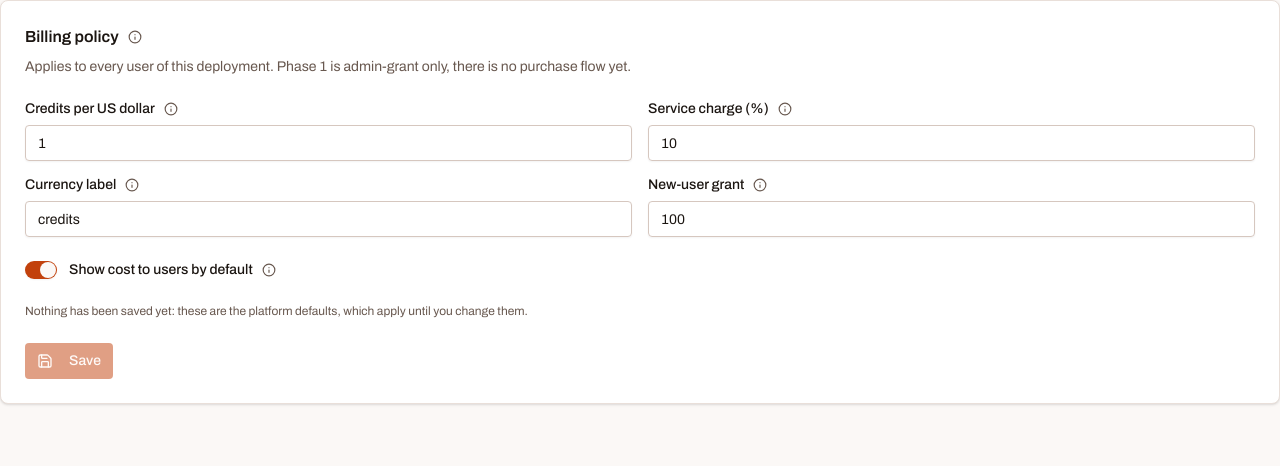
Scenario: BillingSettingsForm › save failure › renders a generic message when a non-API error is thrown
The width and height of the screenshot is (1280, 466).
Replace the text in the number field with id "resparkable-credits-per-usd" with "4" at (328, 143), box [25,125,632,161]
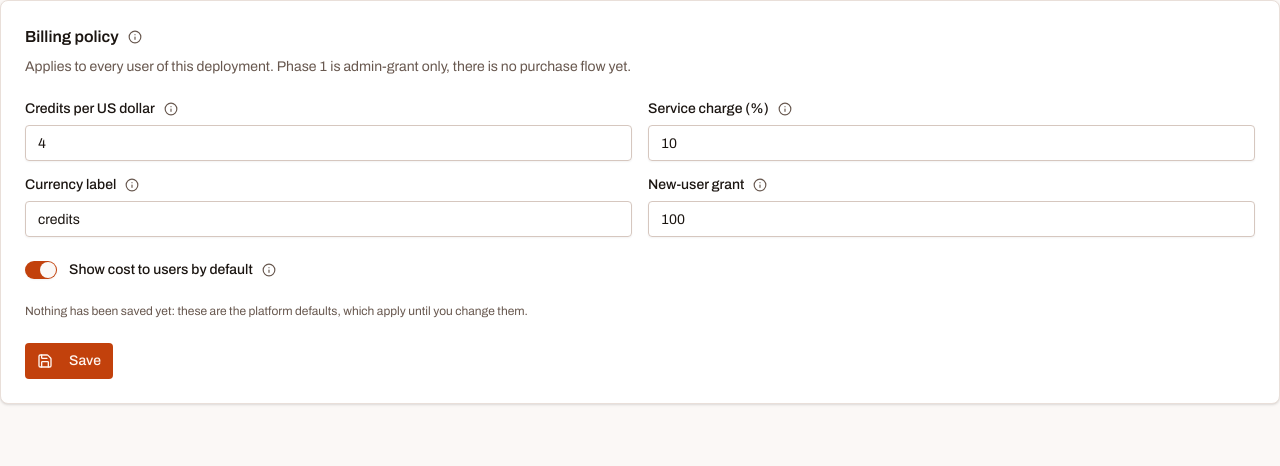
Click the button "Save" at (69, 361), box [25,343,113,379]
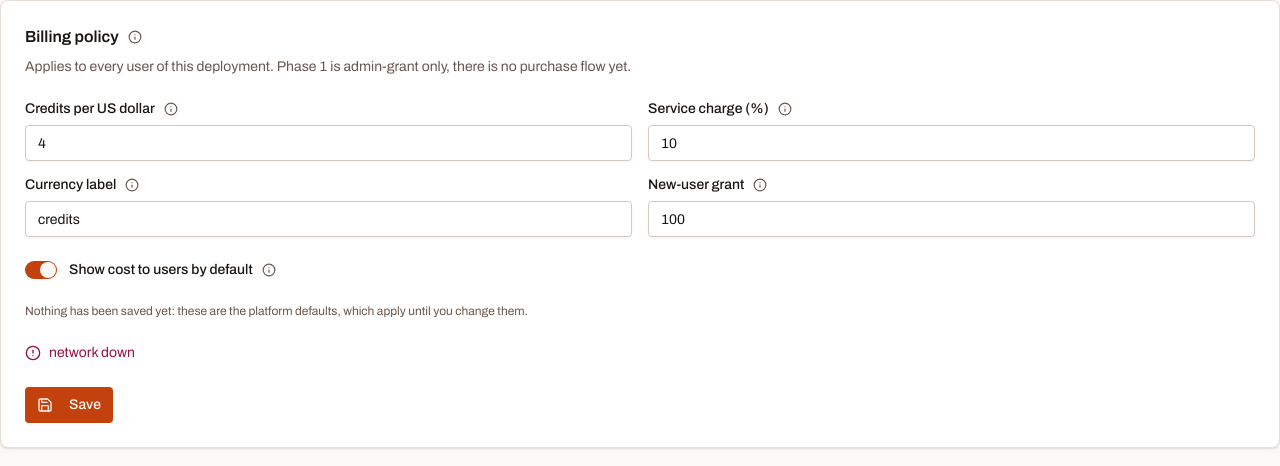
Now the message reads "network down", box [49,345,135,360]
